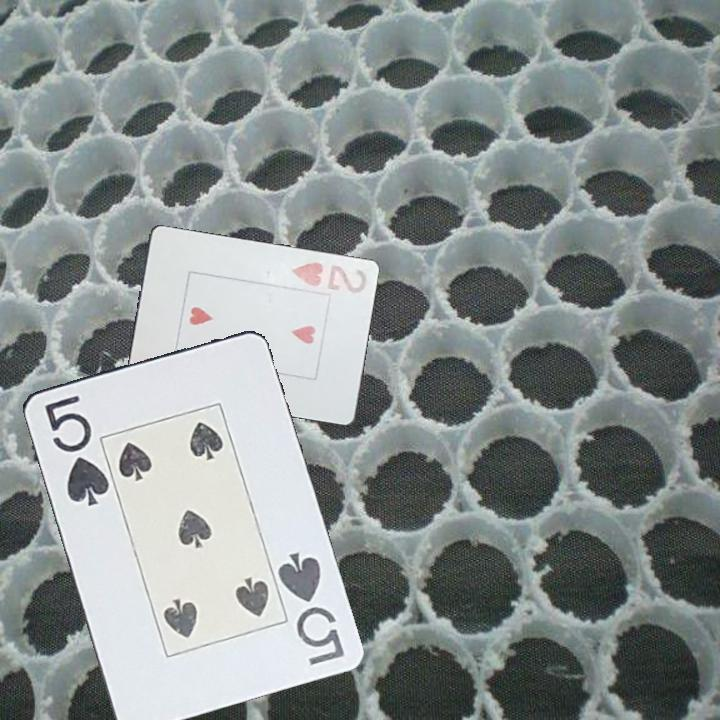2h: (287, 259, 370, 297)
5s: (273, 548, 347, 668), (40, 391, 111, 509)
